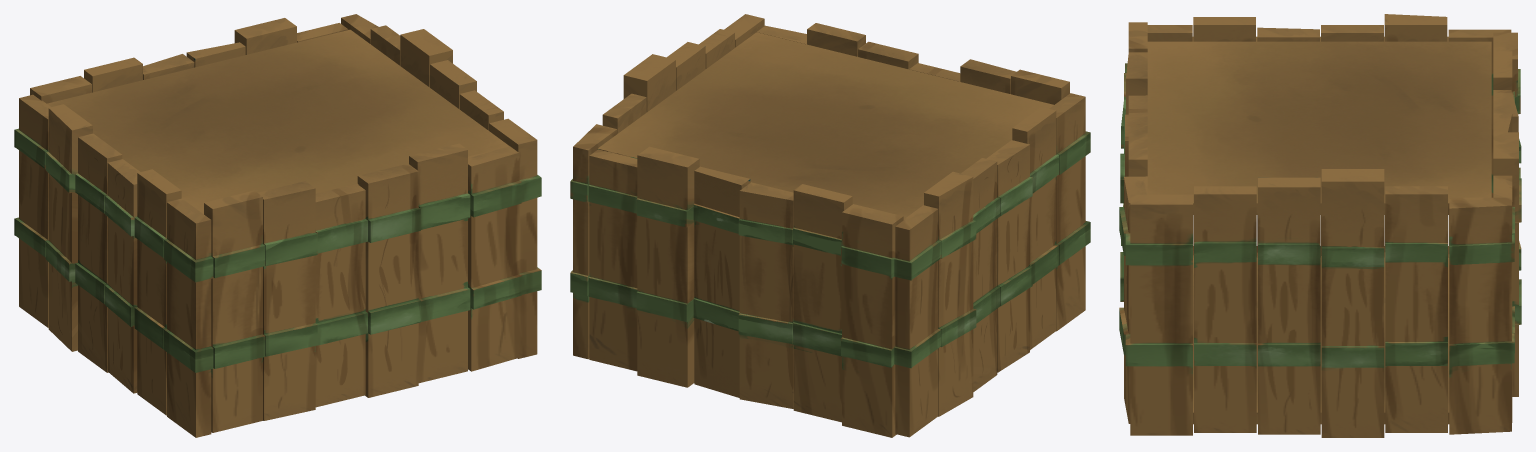
3 renders of one model, left to right at view 1: azimuth 30°, elevation 25°; view 2: azimuth 150°, elevation 25°; view 3: azimuth 270°, elevation 25°, orthographic. The views are drawn at different scales.
Parts seen in each view (by area): view 1: group_pasted__pCube21; view 2: group_pasted__pCube21; view 3: group_pasted__pCube21.
Boxes of the visible parts, box(x1,y1,x2,y2) form: group_pasted__pCube21: box(14, 14, 541, 437); group_pasted__pCube21: box(570, 14, 1090, 437); group_pasted__pCube21: box(1119, 14, 1521, 437).
Size of the model in its own units: 4.16 by 2.66 by 3.78.
1 material, 1 textured.
